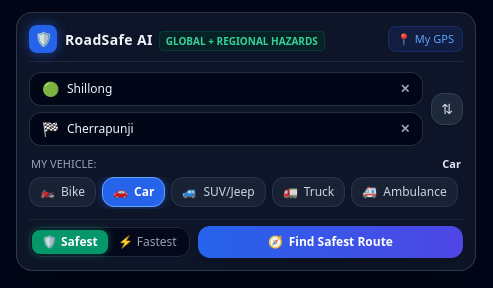
Scenario: SearchHeader Place Name Isolation (Task 2) › renders opaque high-z-index dropdown and supports keyboard ArrowDown + Enter selection
Replace the text in the field named "Destination location" with "Jaipur" at x=229, y=129, box [67,121,392,137]
Wait 250 ms
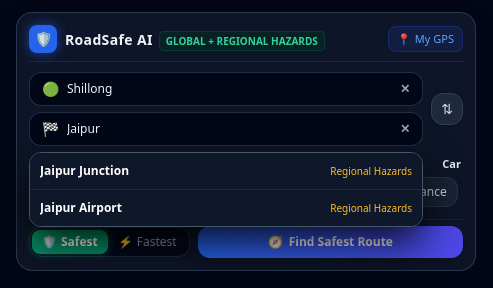
Press ArrowDown in the field named "Destination location", box [67,121,392,137]
Press ArrowDown in the field named "Destination location", box [67,121,392,137]
Press Enter in the field named "Destination location", box [67,121,392,137]
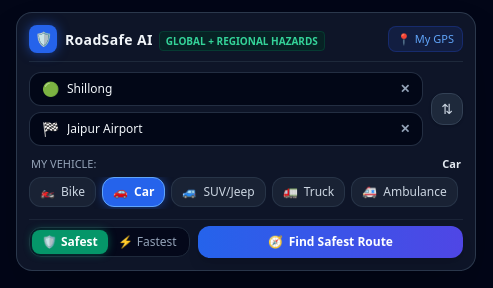
Expected: the field named "Destination location" holds "Jaipur Airport", [67,121,392,137]
Expected: the list is gone
